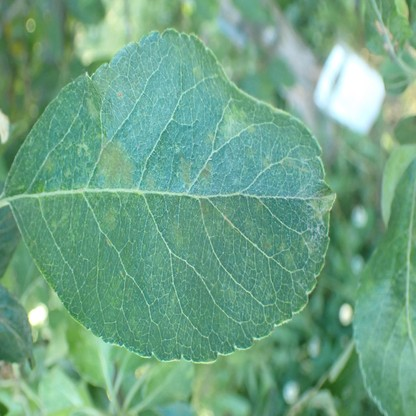powdery_mildew: (305, 216, 325, 255)
scab: (95, 140, 133, 184), (223, 97, 253, 134), (206, 204, 233, 235), (279, 241, 295, 268), (102, 209, 118, 232), (170, 220, 184, 245), (85, 97, 100, 120), (179, 157, 190, 186), (200, 163, 212, 180), (145, 171, 155, 189), (199, 199, 209, 216), (255, 198, 267, 211), (44, 156, 54, 170), (206, 128, 214, 141), (263, 155, 271, 168), (194, 67, 201, 78), (264, 242, 271, 252)
